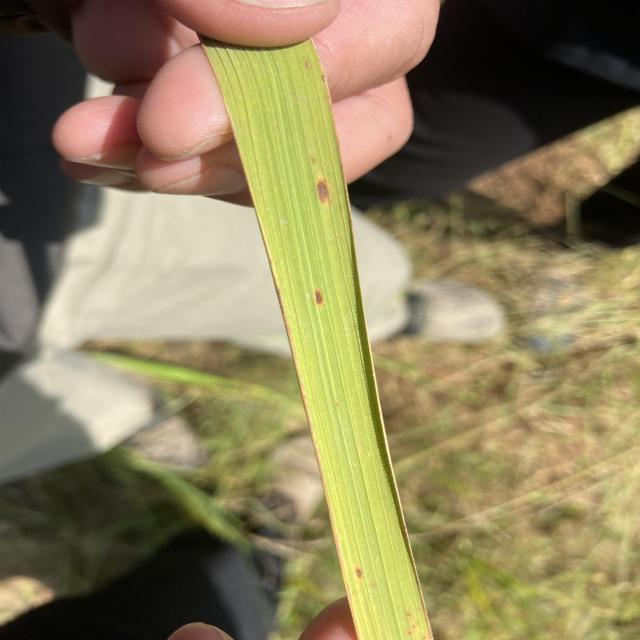Dom nau: (316, 180, 329, 205), (314, 290, 324, 305), (356, 569, 362, 578)
